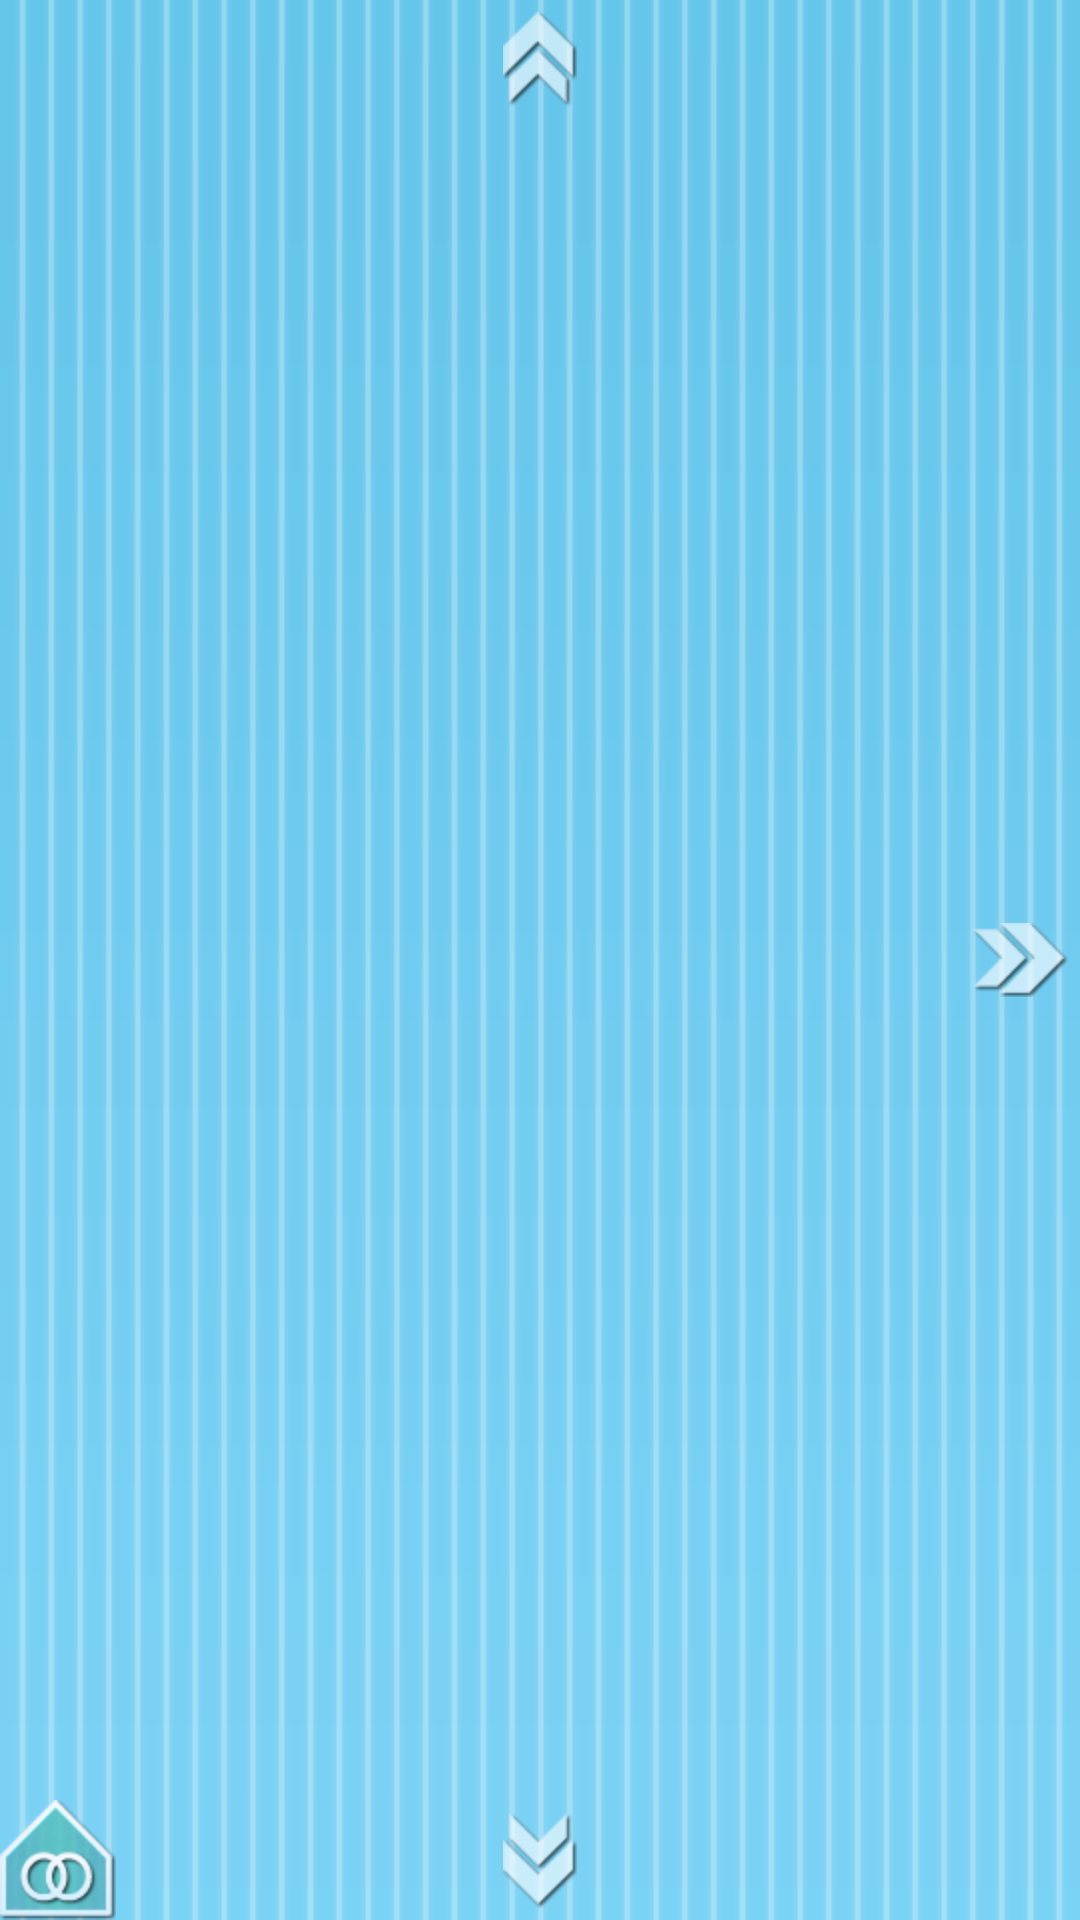

Screen size 1080 × 1920. Icon name, then its box in pixels as Rect(x1, y1, x2, y2):
arrow down: Rect(503, 1814, 577, 1920)
arrow right: Rect(974, 923, 1067, 997)
arrow up: Rect(503, 0, 577, 106)
